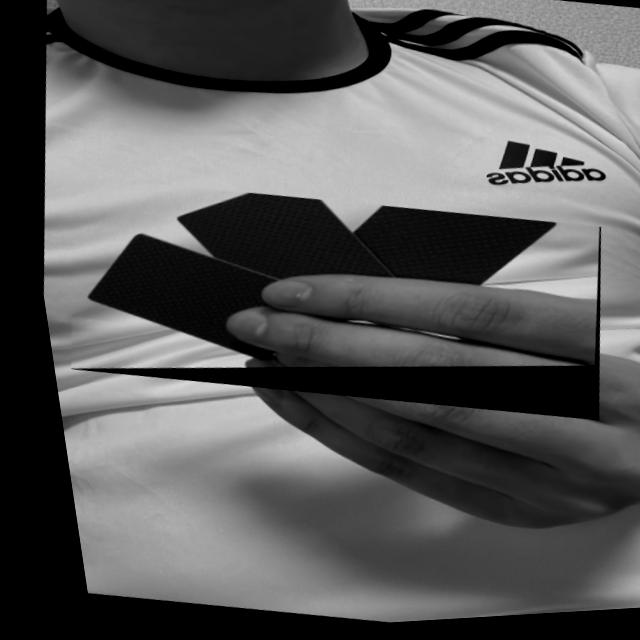hwatoo: (37, 152, 615, 451)
